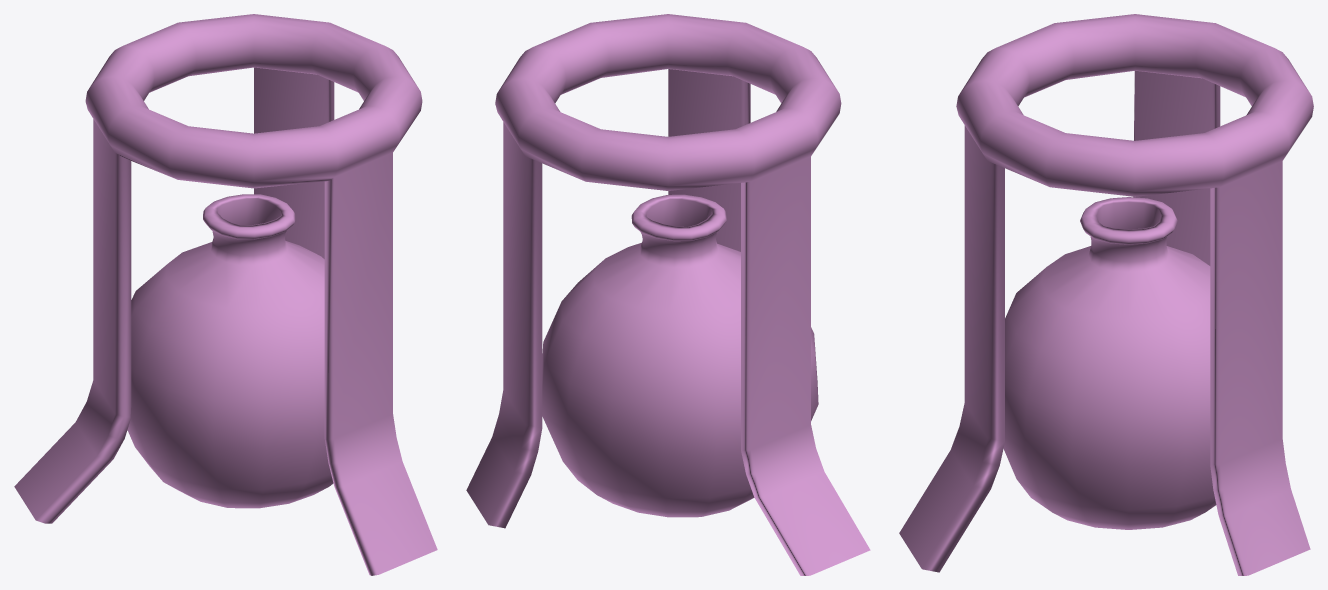
Rendered from bounceng 1.FBX.
3 views of the same model, side by side, from view 1: azimuth 30°, elevation 25°; view 2: azimuth 150°, elevation 25°; view 3: azimuth 270°, elevation 25° (orthographic). The views are drawn at different scales.
Parts seen in each view (by area): view 1: bounceng_low; view 2: bounceng_low; view 3: bounceng_low.
Part boxes in pixels (left/top/right/bottom): bounceng_low: left=14, top=14, right=437, bottom=575; bounceng_low: left=466, top=14, right=870, bottom=575; bounceng_low: left=899, top=14, right=1313, bottom=575.
Bounding box in the file's own units: 9.11 × 10.52 × 8.73.
